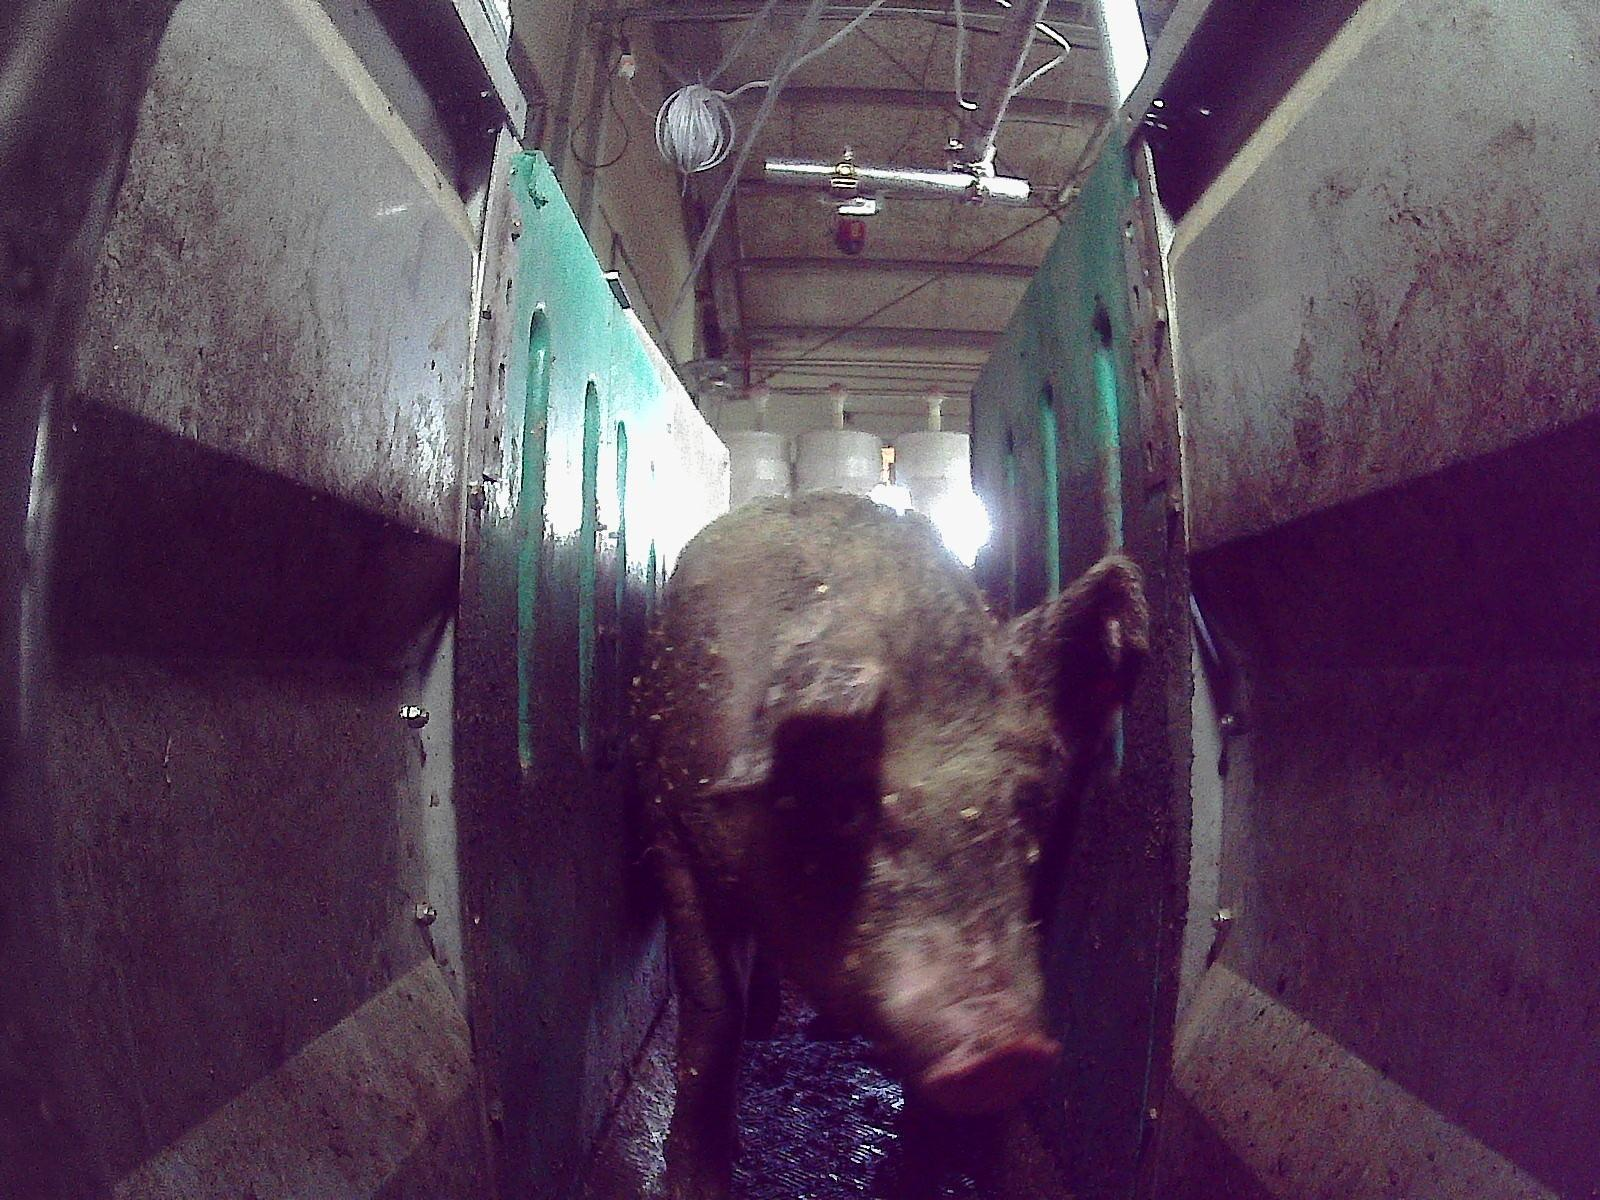Face: (725, 624, 1065, 1118)
